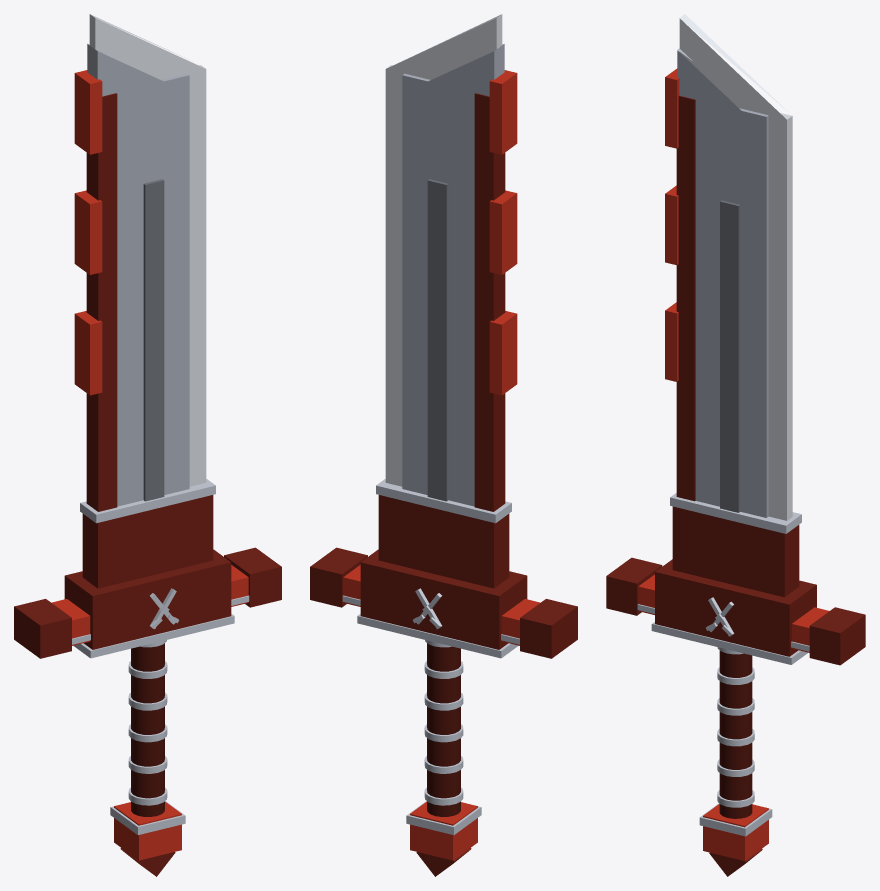
3 renders of one model, left to right at view 1: azimuth 30°, elevation 25°; view 2: azimuth 150°, elevation 25°; view 3: azimuth 330°, elevation 25°, orthographic. The views are drawn at different scales.
Parts seen in each view (by area): view 1: dragonbone-greatsword; view 2: dragonbone-greatsword; view 3: dragonbone-greatsword.
Part boxes in pixels (bbox=[...]): dragonbone-greatsword: bbox=[14, 14, 281, 876]; dragonbone-greatsword: bbox=[310, 14, 577, 876]; dragonbone-greatsword: bbox=[606, 14, 865, 876].
Bounding box in the file's own units: 0.4049 × 1.39 × 0.1025.
